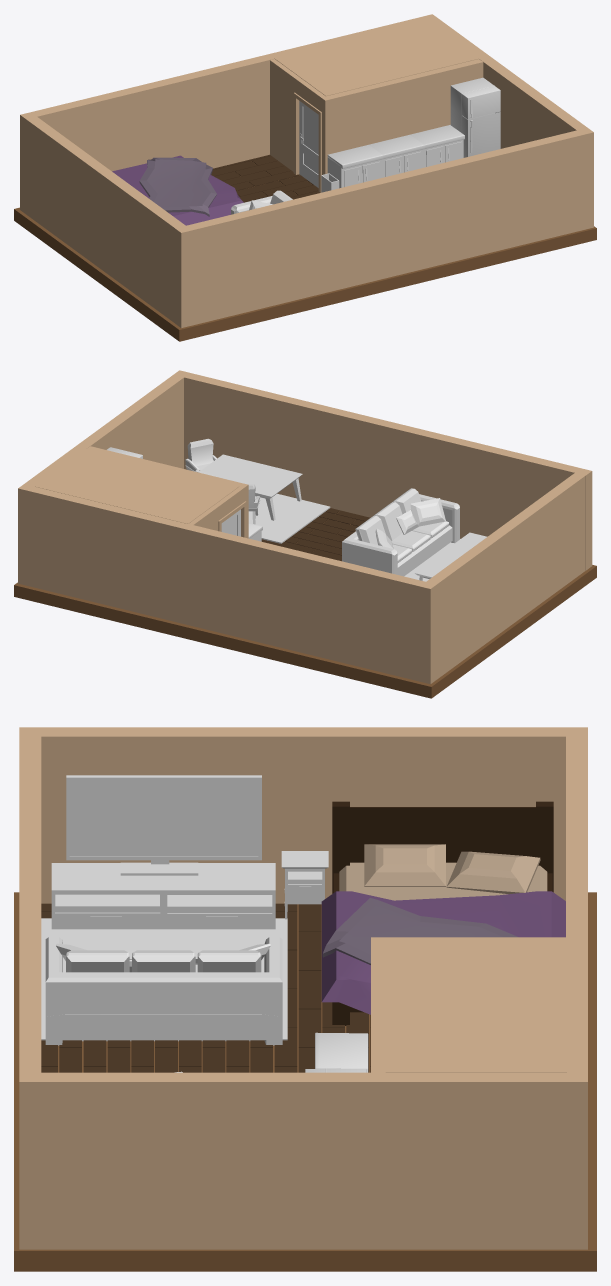
The model's file is apart_fixed.fbx.
3 renders of one model, top to bottom at view 1: azimuth 30°, elevation 25°; view 2: azimuth 150°, elevation 25°; view 3: azimuth 270°, elevation 25°, orthographic. The views are drawn at different scales.
Visible parts, largest first — view 1: ex wall1, ex wall4, ex wall2, interior walls, floor, roof, bed, ex wall3, countertops, fridge, floor planks, door (+1 smaller); view 2: ex wall4, ex wall1, ex wall2, floor, roof, ex wall3, couch, floor planks, table, kitchen rug, interior walls, coffeetable (+1 smaller); view 3: ex wall3, ex wall2, bed, roof, couch, floor, tv, floor planks, tv table, ex wall1, ex wall4, coffeetable (+4 smaller).
Boxes of the visible parts, left/top/right/bottom form: ex wall1: left=175, top=130, right=593, bottom=327; ex wall4: left=22, top=14, right=436, bottom=171; ex wall2: left=20, top=112, right=189, bottom=322; interior walls: left=270, top=59, right=483, bottom=192; floor: left=14, top=162, right=596, bottom=341; roof: left=274, top=21, right=478, bottom=96; bed: left=112, top=155, right=243, bottom=225; ex wall3: left=423, top=14, right=592, bottom=148; countertops: left=327, top=125, right=464, bottom=188; fridge: left=450, top=77, right=500, bottom=157; floor planks: left=211, top=154, right=319, bottom=202; door: left=299, top=101, right=318, bottom=187; ex wall4: left=19, top=485, right=434, bottom=681; ex wall1: left=173, top=370, right=592, bottom=570; ex wall2: left=419, top=473, right=585, bottom=684; floor: left=14, top=511, right=596, bottom=698; roof: left=35, top=449, right=239, bottom=523; ex wall3: left=18, top=371, right=186, bottom=586; couch: left=342, top=488, right=459, bottom=576; floor planks: left=261, top=508, right=370, bottom=561; table: left=201, top=454, right=302, bottom=520; kitchen rug: left=248, top=493, right=330, bottom=543; interior walls: left=87, top=446, right=248, bottom=538; coffeetable: left=414, top=532, right=487, bottom=580; ex wall3: left=21, top=1072, right=587, bottom=1249; ex wall2: left=21, top=727, right=587, bottom=903; bed: left=321, top=801, right=565, bottom=1025; roof: left=385, top=940, right=566, bottom=1072; couch: left=45, top=937, right=282, bottom=1045; floor: left=14, top=892, right=596, bottom=1271; tv: left=66, top=775, right=261, bottom=875; floor planks: left=41, top=903, right=370, bottom=1072; tv table: left=51, top=863, right=275, bottom=929; ex wall1: left=19, top=727, right=41, bottom=1249; ex wall4: left=566, top=728, right=587, bottom=1080; coffeetable: left=66, top=930, right=261, bottom=964.
Size of the model in its own units: 1045 by 256 by 718.
